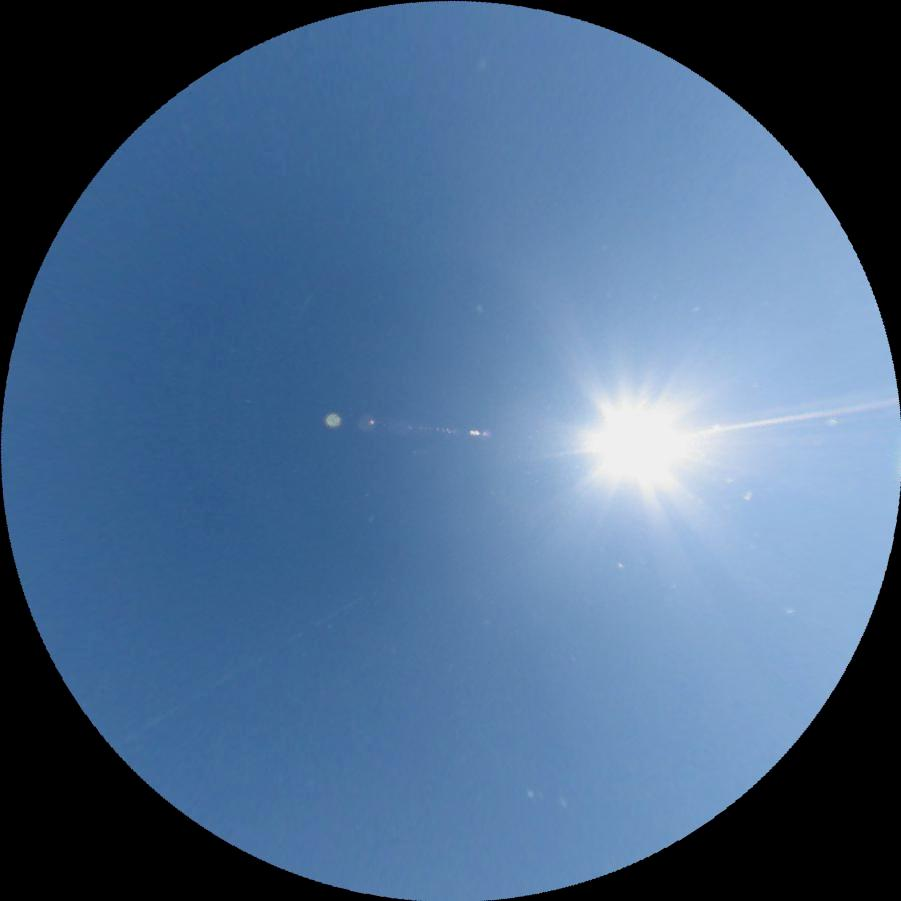contrail young: (294, 288, 315, 319)
parasite: (685, 395, 897, 440)
sun: (567, 372, 710, 513)
